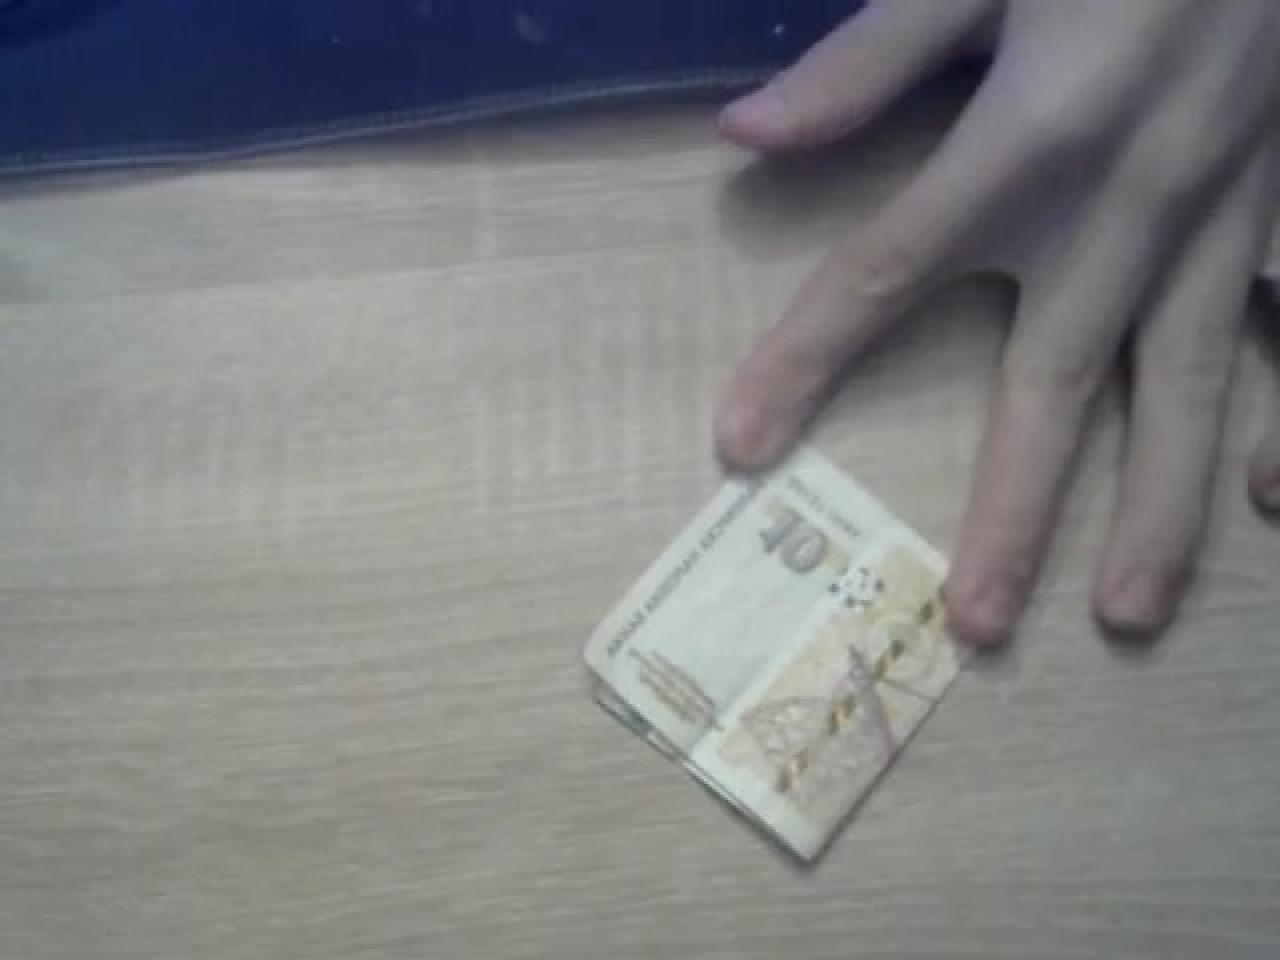10leva: (581, 437, 968, 867)
